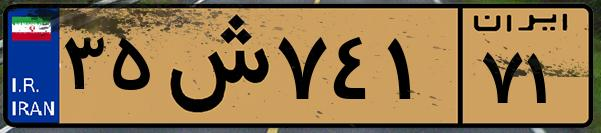1: (385, 28, 445, 110), (525, 38, 570, 115)
3: (57, 26, 110, 100)
4: (330, 28, 385, 110)
5: (110, 28, 158, 98)
7: (270, 28, 330, 110), (475, 38, 525, 113)
ش: (158, 12, 270, 120)
